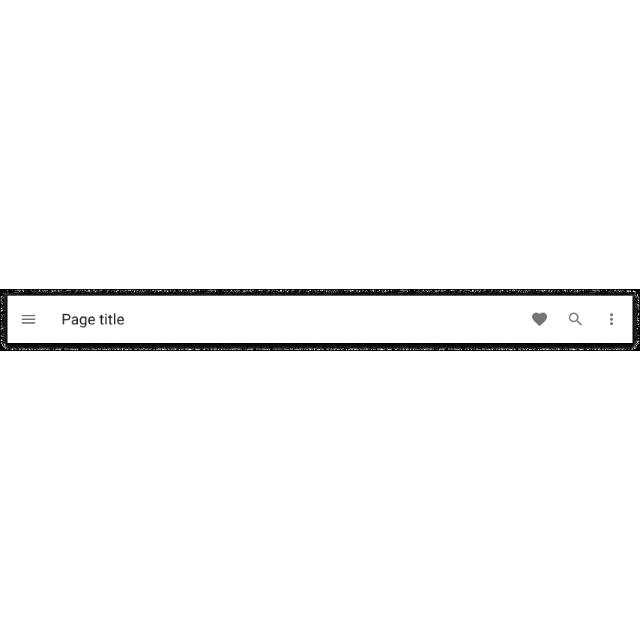QLabel: (61, 314, 126, 328)
VAppBar: (8, 295, 632, 345)
VIcon: (531, 312, 547, 328), (566, 313, 584, 327), (19, 314, 36, 326), (608, 313, 614, 327)
